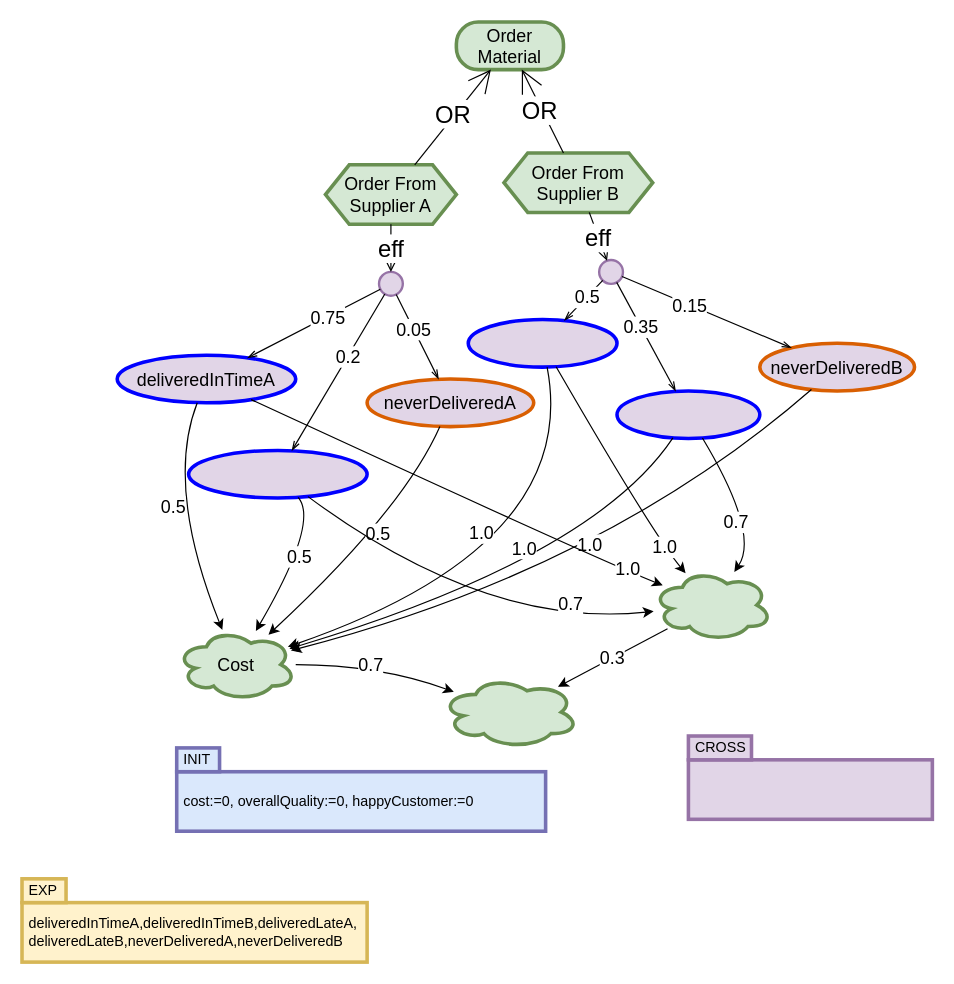
This 954x984 diagram has some shape labels left out. The box of each missing label's shape, as (x1, y1, x2, y2) in pixels:
cost, happyCustomer: (686, 757, 934, 821)
deliveredInTimeB: (466, 317, 618, 368)
deliveredLateA: (186, 448, 368, 499)
deliveredLateB: (615, 389, 761, 440)
Happy Customer: (650, 567, 773, 642)
Overall Quality: (439, 674, 580, 749)
